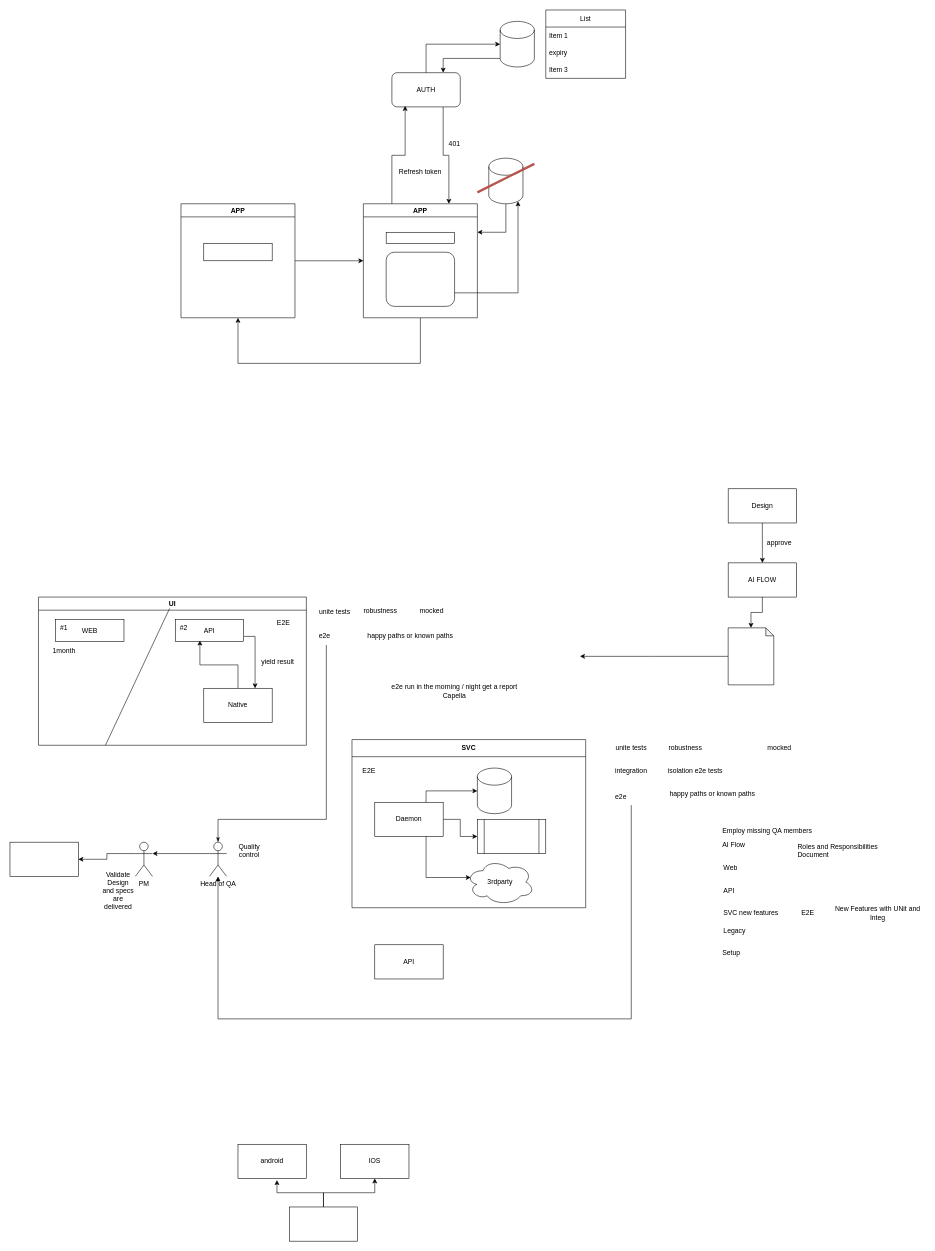
Image size: 935x1251. Some labels were removed from this diagram. The shapes that lost their labels are listed below. From the top down, each one's centre as x and y in pixels, then its label:
At pixel 517 44: "device registration".
At pixel 505 181: "storage".
At pixel 237 252: "LOGIN".
At pixel 420 238: "PAY".
At pixel 420 279: "Device Registration Expired kindly login again OK".
At pixel 751 656: "testcases".
At pixel 511 836: "KAFKA".
At pixel 43 859: "PROD".
At pixel 323 1223: "QA external".
